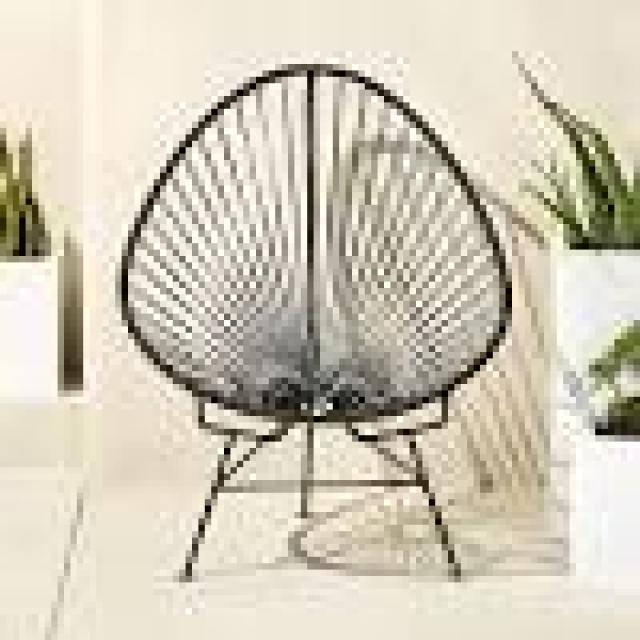chair: (55, 42, 538, 640)
